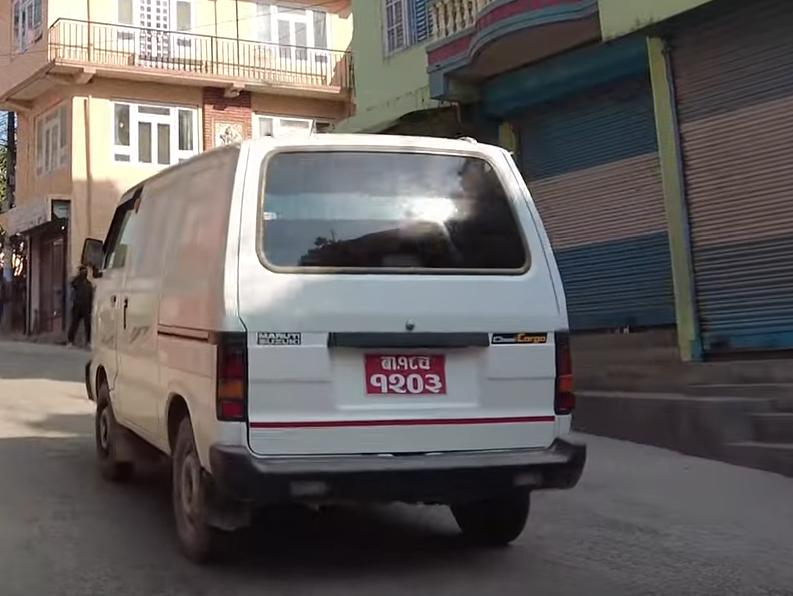van: (67, 127, 594, 560)
